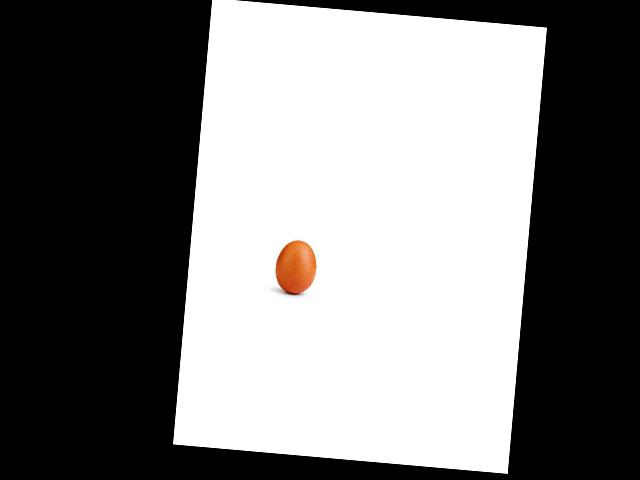egg: (273, 239, 318, 295)
